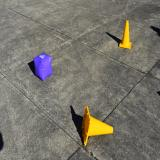cone: (81, 105, 113, 146), (118, 21, 132, 48)
cube: (33, 52, 53, 82)
